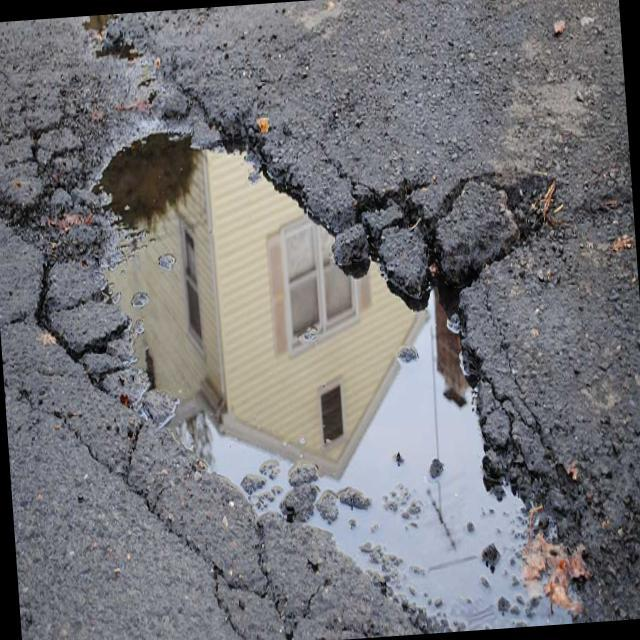Pothole: (85, 86, 573, 640)
